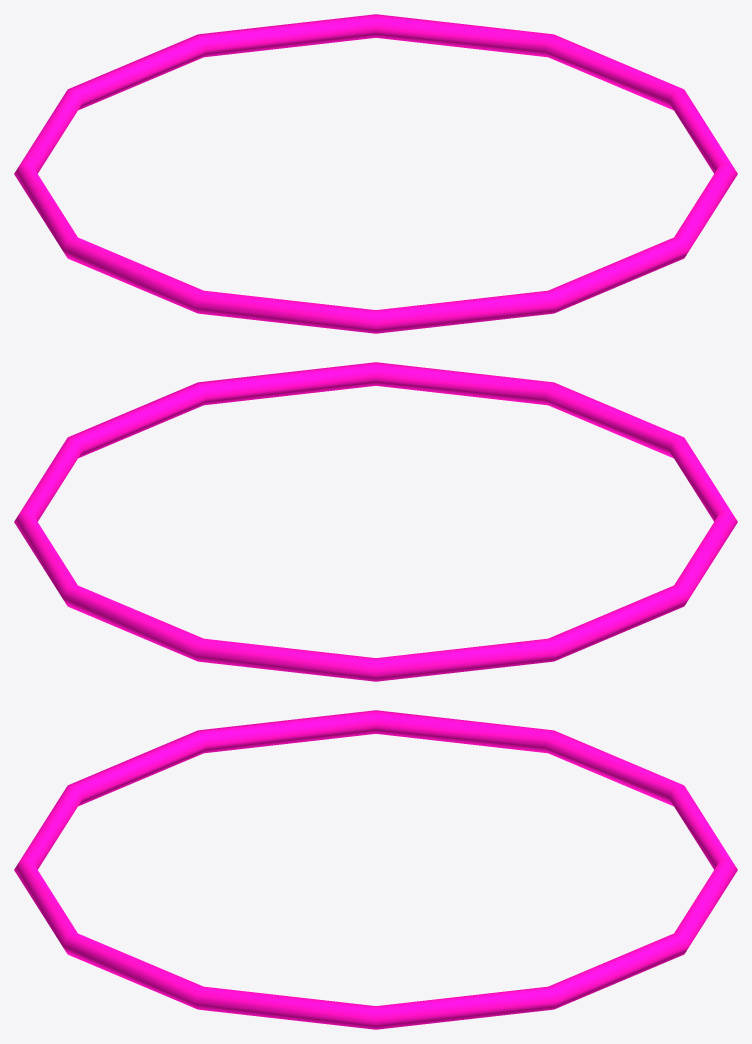
Rendered from HulaHoopPink.glb.
3 renders of one model, top to bottom at view 1: azimuth 30°, elevation 25°; view 2: azimuth 150°, elevation 25°; view 3: azimuth 270°, elevation 25°, orthographic.
Visible parts, largest first — view 1: HulaHoopPink; view 2: HulaHoopPink; view 3: HulaHoopPink.
Part boxes in pixels (x1,y1,x2,y2): HulaHoopPink: (14,14,737,333); HulaHoopPink: (14,362,737,681); HulaHoopPink: (14,710,737,1029).
Size of the model in its own units: 1.04 by 0.0296 by 1.04.
1 material, 1 textured.
